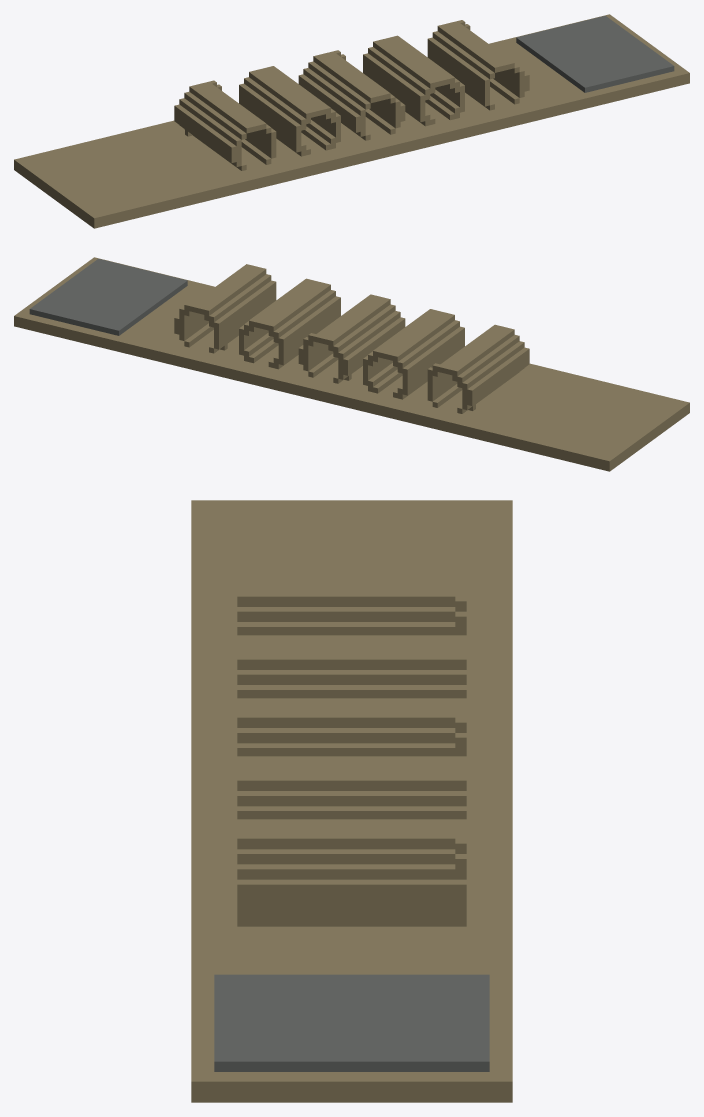
Rendered from bandolier_wrist.glb.
The picture shows the model from 3 angles, top to bottom: view 1: azimuth 30°, elevation 25°; view 2: azimuth 150°, elevation 25°; view 3: azimuth 270°, elevation 25°; orthographic projection. The views are drawn at different scales.
Visible parts, largest first — view 1: bandolier_wrist:compound; view 2: bandolier_wrist:compound; view 3: bandolier_wrist:compound.
Part boxes in pixels (x1,y1,x2,y2): bandolier_wrist:compound: [14, 14, 689, 228]; bandolier_wrist:compound: [14, 257, 689, 471]; bandolier_wrist:compound: [191, 500, 512, 1102].
Bounding box in the file's own units: 0.24 × 0.022 × 0.056.
